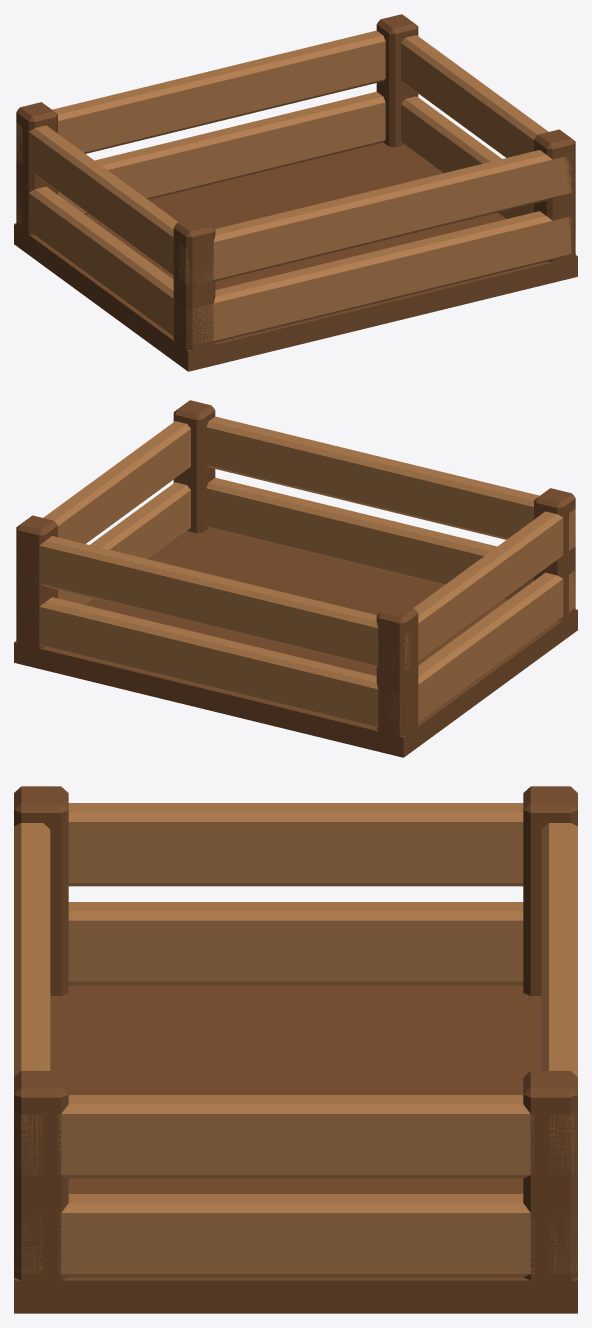
The model's file is Kasa.fbx.
3 renders of one model, top to bottom at view 1: azimuth 30°, elevation 25°; view 2: azimuth 150°, elevation 25°; view 3: azimuth 270°, elevation 25°, orthographic. The views are drawn at different scales.
Parts seen in each view (by area): view 1: Kasa; view 2: Kasa; view 3: Kasa.
Part boxes in pixels (x1,y1,x2,y2): Kasa: (14,14,577,371); Kasa: (14,400,577,757); Kasa: (14,786,577,1313).
Size of the model in its own units: 80 by 27 by 62.
